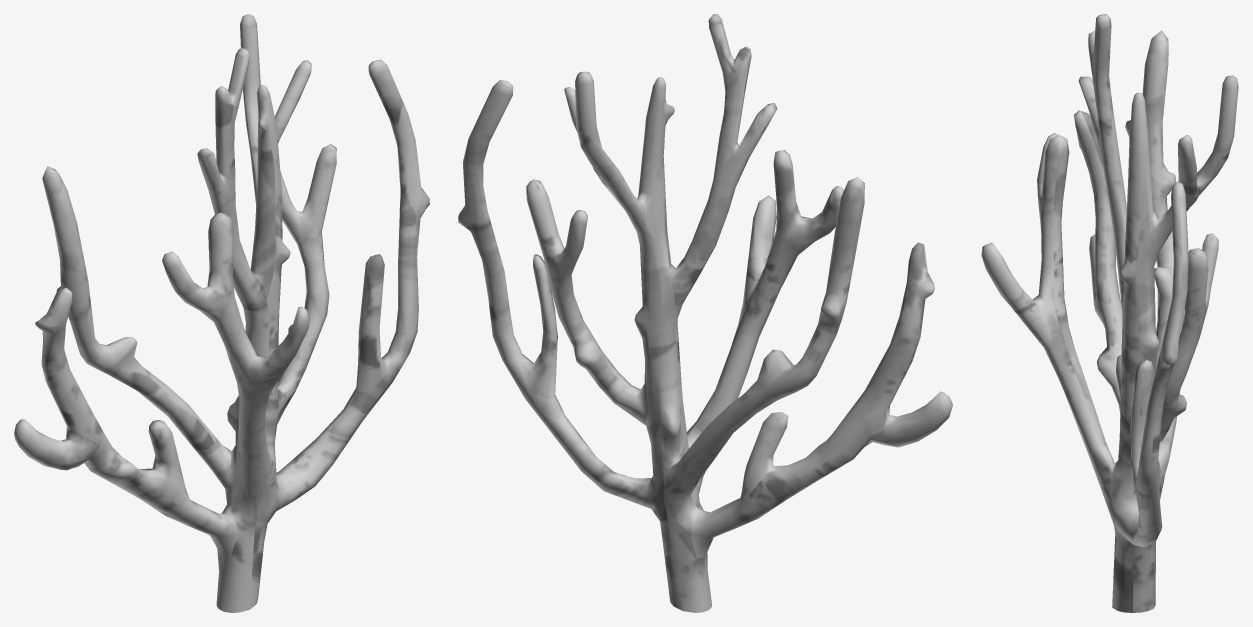
Rendered from seaRod01b.fbx.
The picture shows the model from 3 angles, left to right: view 1: azimuth 30°, elevation 25°; view 2: azimuth 150°, elevation 25°; view 3: azimuth 270°, elevation 25°; orthographic projection. The views are drawn at different scales.
Visible parts, largest first — view 1: seaRod01b; view 2: seaRod01b; view 3: seaRod01b.
Part boxes in pixels (box(x1,y1,x2,y2)): seaRod01b: box(14, 14, 429, 612); seaRod01b: box(458, 14, 952, 612); seaRod01b: box(981, 14, 1238, 612).
Bounding box in the file's own units: 0.2702 × 0.3279 × 0.1297.
